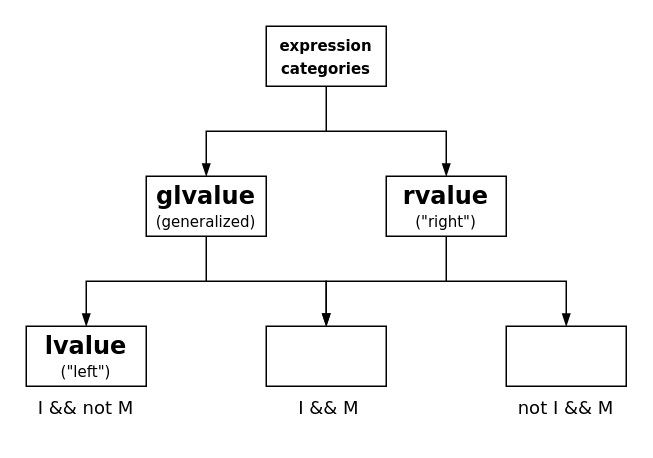
This 653x458 diagram has some shape labels left out. The centre of each missing label's shape, as x and y in pixels:
prvalue (pure right): (565,355)
xvalue (expiring): (325,355)
